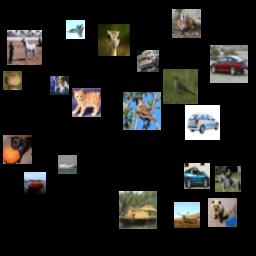airplane: (66, 20, 85, 39)
automobile: (210, 45, 248, 83), (185, 105, 220, 140), (184, 163, 210, 189), (137, 50, 159, 72)
bird: (123, 92, 161, 130), (163, 69, 198, 104), (98, 24, 130, 56), (3, 71, 22, 90)
cat: (72, 88, 101, 117)
deer: (172, 9, 201, 38), (174, 202, 200, 228)
dog: (3, 135, 32, 164), (208, 198, 237, 227), (50, 76, 69, 95)
ship: (119, 191, 157, 229), (24, 172, 46, 194), (58, 155, 77, 174)
